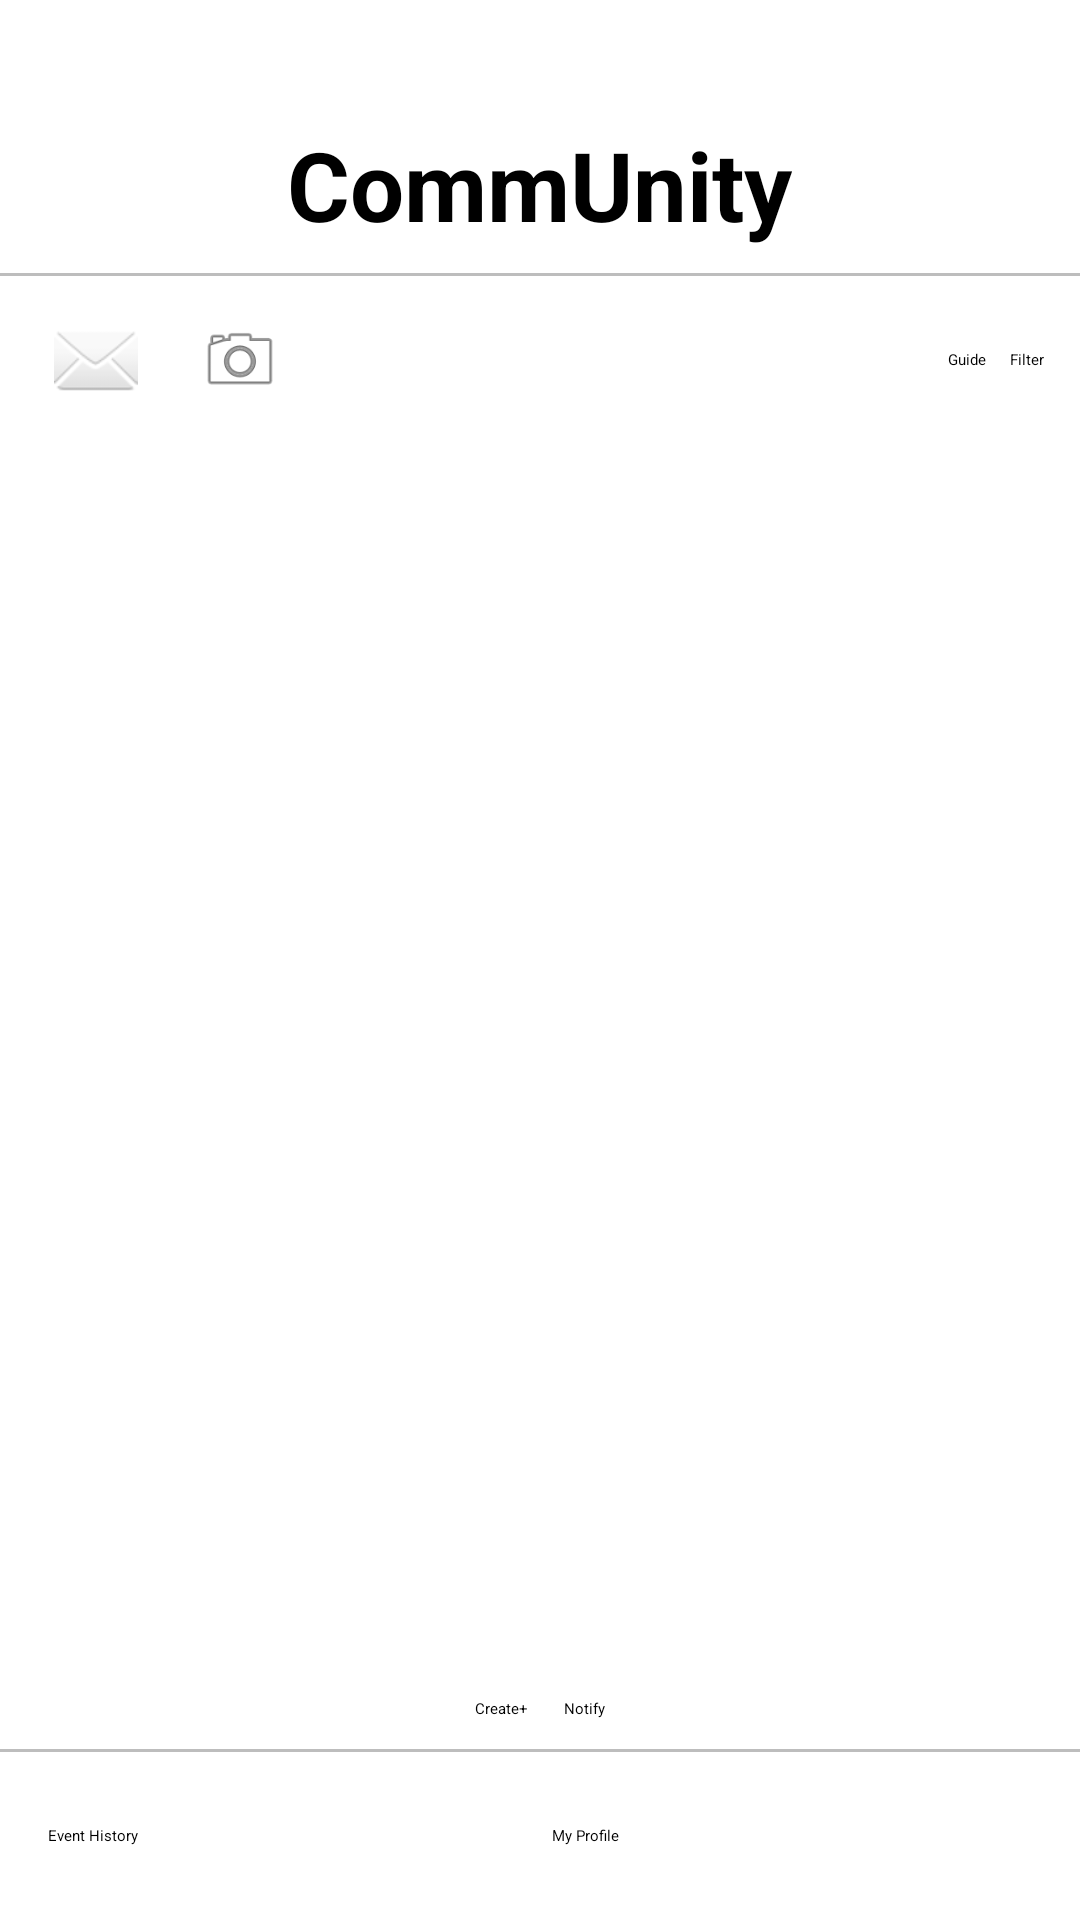

Screen size 1080×1920. Icon name, then its center in pixels as point (x, y):
Camera: point (240, 359)
